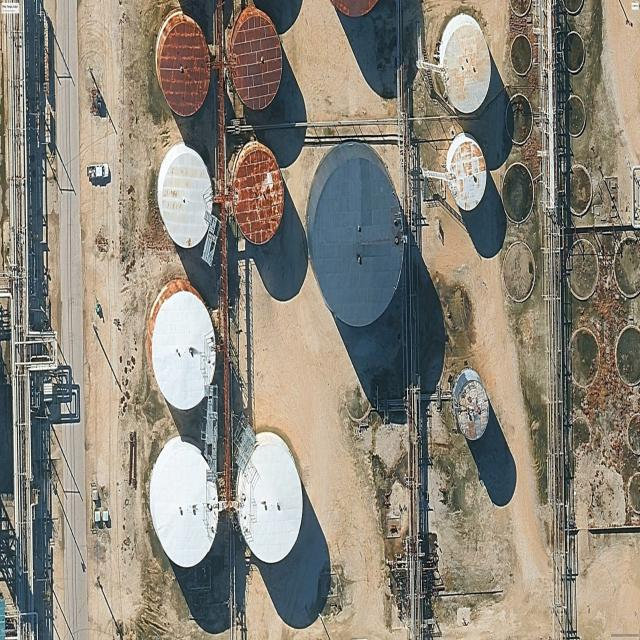Oil Rafinery: (307, 142, 406, 326), (147, 280, 217, 410), (149, 436, 218, 567), (237, 432, 303, 563), (157, 143, 212, 248), (156, 11, 210, 117), (229, 7, 282, 110), (436, 14, 491, 113), (232, 141, 284, 245), (422, 132, 487, 211), (452, 368, 489, 440)
